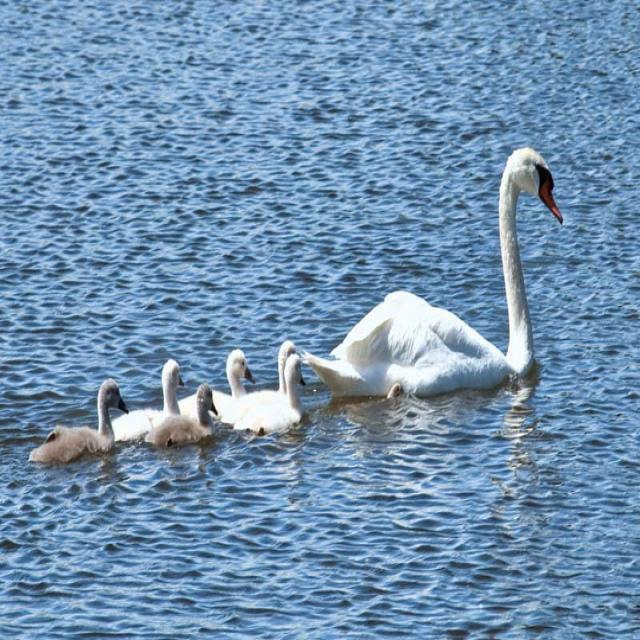swan: (300, 148, 561, 396), (29, 379, 129, 462), (220, 353, 303, 434), (113, 359, 182, 441), (150, 384, 215, 446)
